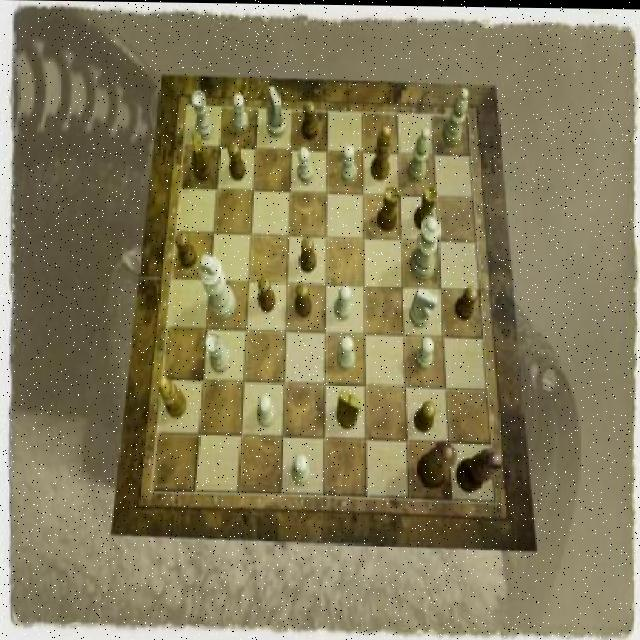bishop: (157, 376, 187, 418), (371, 126, 392, 181)
black-bishop: (456, 447, 502, 491)
black-king: (192, 131, 212, 182), (337, 388, 361, 429)
black-knight: (456, 284, 478, 319), (176, 232, 197, 268), (414, 400, 436, 433), (228, 141, 245, 181), (295, 282, 313, 317), (302, 100, 318, 139), (259, 276, 276, 312), (299, 236, 316, 272)
black-pawn: (417, 439, 457, 487)
black-queen: (377, 186, 400, 231), (416, 185, 438, 231)
black-rook: (443, 87, 469, 146), (408, 126, 430, 181)
white-bishop: (200, 255, 237, 321)
white-king: (411, 288, 438, 328), (268, 86, 288, 137)
white-knight: (340, 144, 357, 184), (232, 94, 248, 134), (257, 393, 275, 428), (416, 335, 434, 370), (291, 454, 310, 487), (337, 335, 355, 369), (334, 284, 351, 320), (298, 145, 314, 183)
white-pawn: (409, 214, 442, 280)
white-queen: (192, 90, 215, 141), (204, 332, 230, 373)
